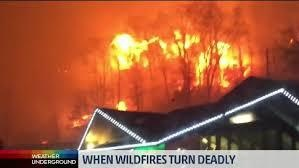fire: (104, 27, 252, 87)
